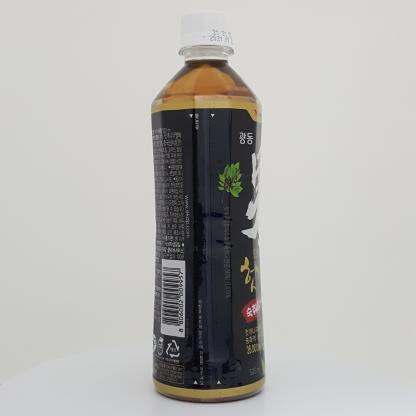---------500ML: (151, 9, 266, 403)
